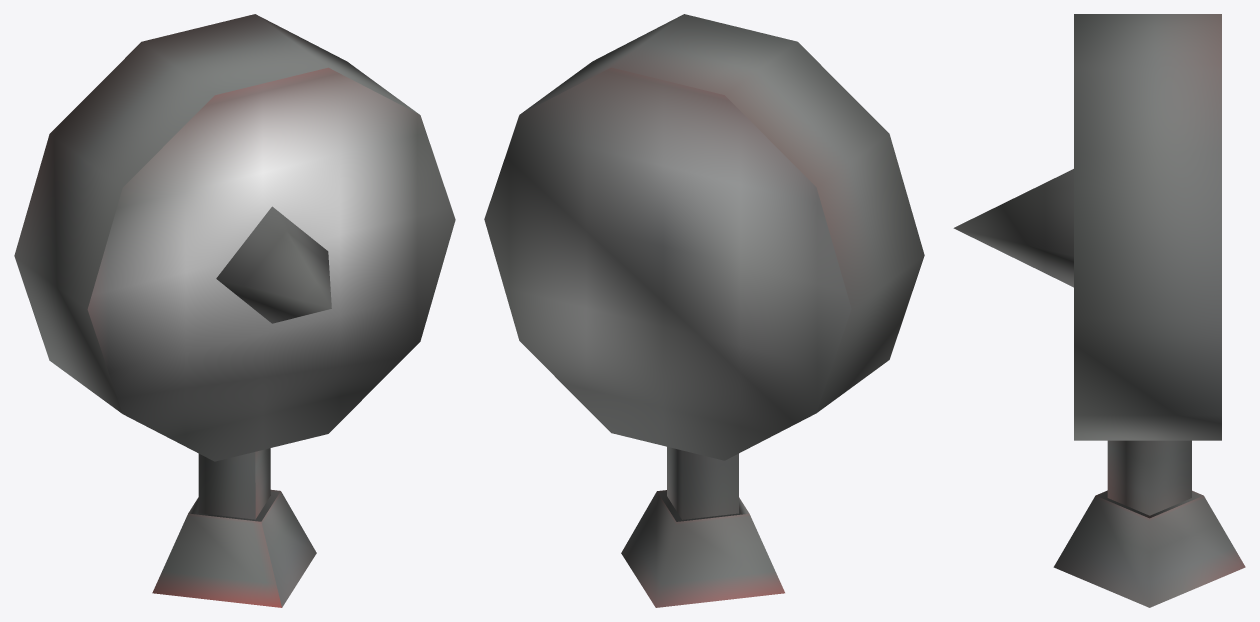
The model's file is Radar2.FBX.
3 renders of one model, left to right at view 1: azimuth 30°, elevation 25°; view 2: azimuth 150°, elevation 25°; view 3: azimuth 270°, elevation 25°, orthographic.
Visible parts, largest first — view 1: Radar2; view 2: Radar2; view 3: Radar2.
Part boxes in pixels (x1,y1,x2,y2): Radar2: (14,14,455,607); Radar2: (484,14,924,607); Radar2: (953,14,1245,607).
Bounding box in the file's own units: 6.66 × 8.98 × 4.53.
Materials: 1 (1 with a texture image).
